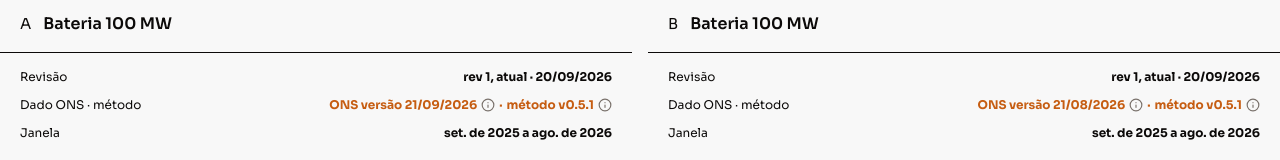
Test: compare columns › explains the ONS snapshot and method version in tooltips, same text as the result header
Focus the button named "Ajuda: ONS versão" next to "21/09/2026": [488, 105] box [481, 98, 495, 112]
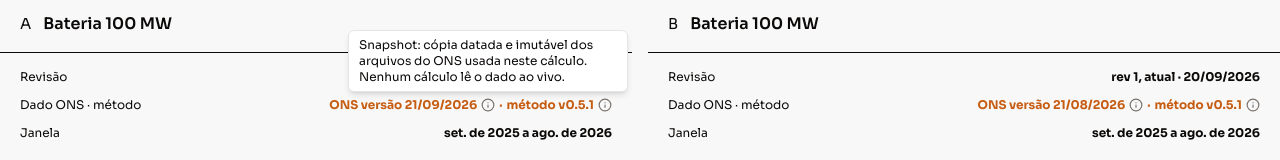
Expected: the tooltip shows "Snapshot", [359, 37, 593, 84]
